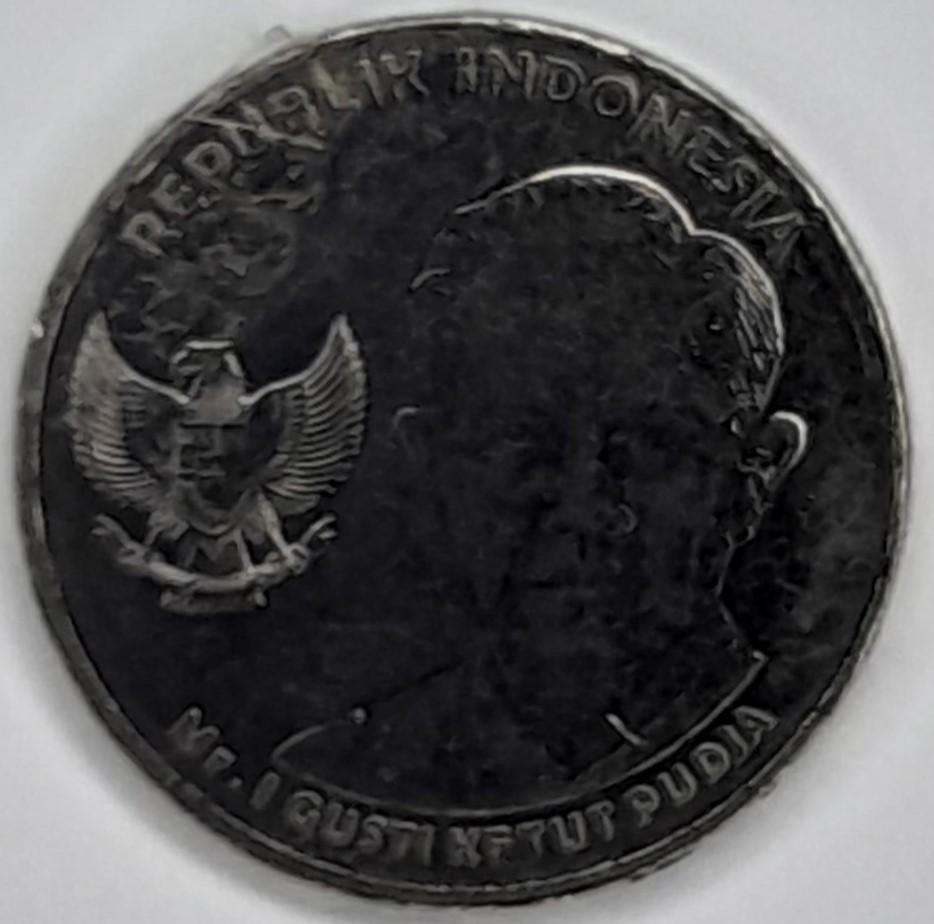coin_1000_e2016: (16, 18, 922, 924)
